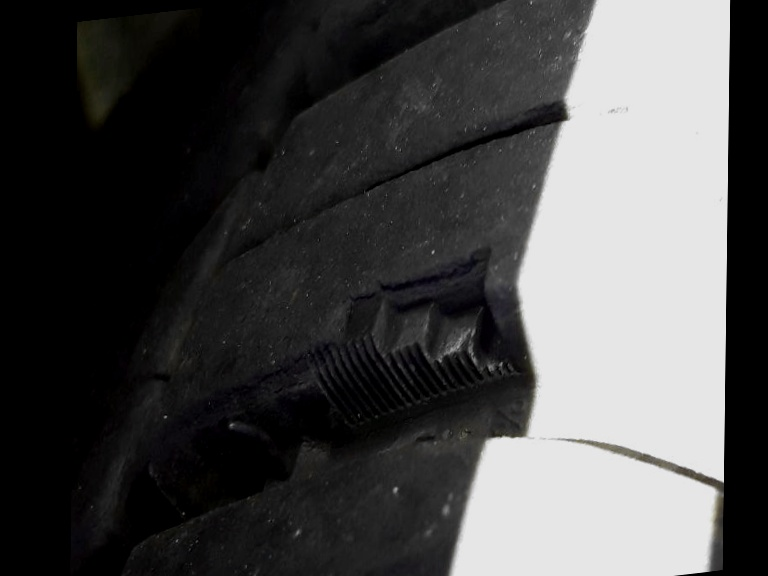temoin:80: (299, 234, 526, 444)
